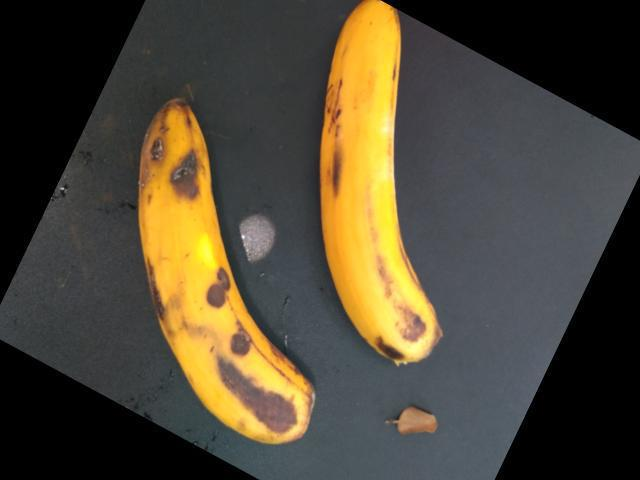overripe: (131, 87, 321, 465), (301, 0, 462, 389)
